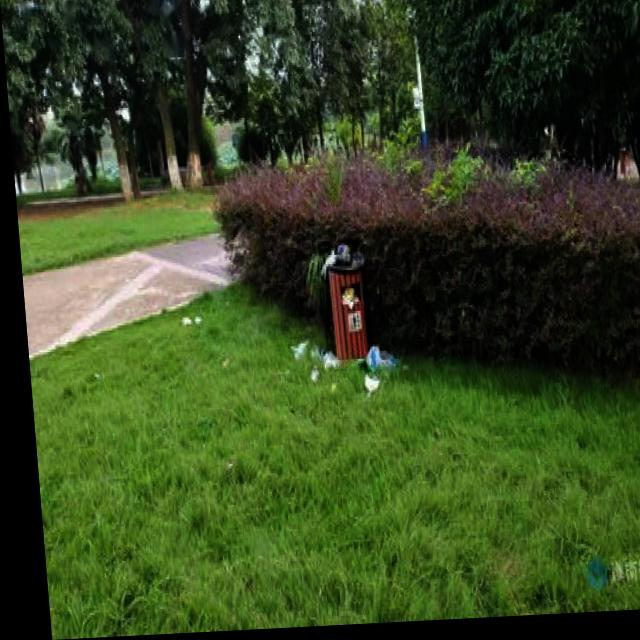garbage: (283, 338, 394, 395)
overflow: (314, 243, 368, 364)
